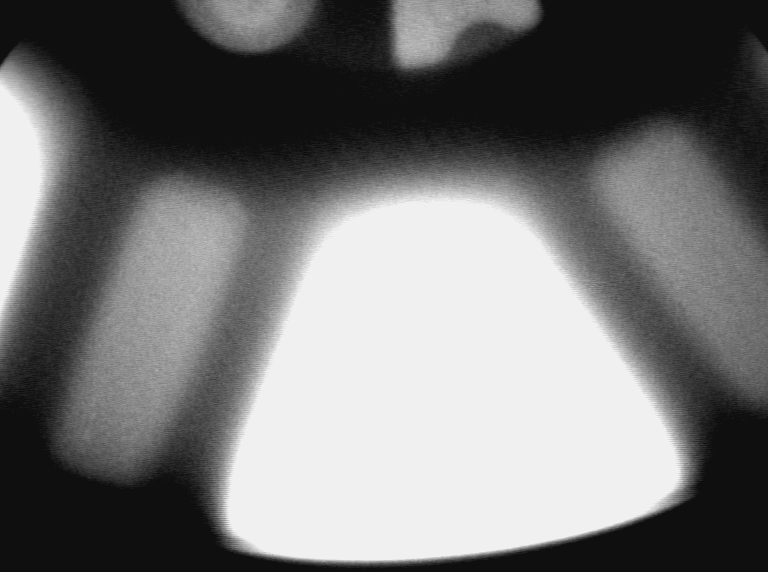defect: (76, 396, 98, 456)
